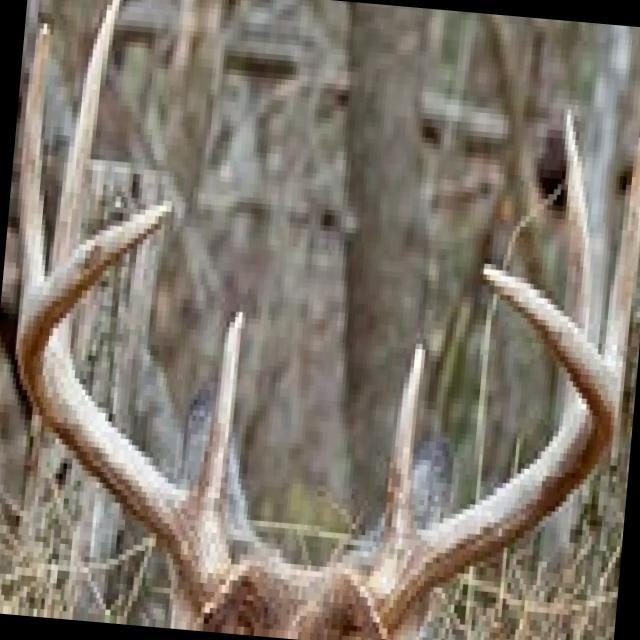L-F: (358, 264, 618, 640)
L-G1: (381, 340, 427, 551)
R-F: (16, 200, 246, 626)
R-G1: (192, 308, 247, 522)
